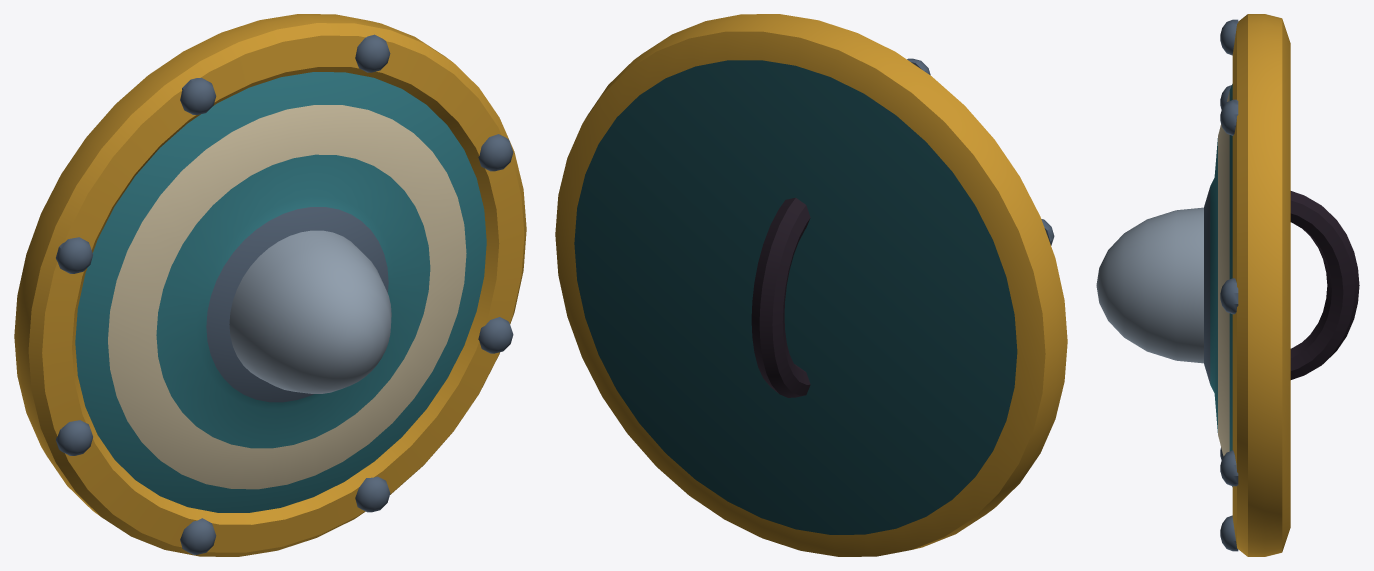
Rendered from RoundShield_18.glb.
The picture shows the model from 3 angles, left to right: view 1: azimuth 30°, elevation 25°; view 2: azimuth 150°, elevation 25°; view 3: azimuth 270°, elevation 25°; orthographic projection. The views are drawn at different scales.
Parts seen in each view (by area): view 1: RoundShield_18; view 2: RoundShield_18; view 3: RoundShield_18.
Part boxes in pixels (bbox=[...]): RoundShield_18: bbox=[14, 14, 526, 556]; RoundShield_18: bbox=[555, 14, 1067, 556]; RoundShield_18: bbox=[1096, 14, 1359, 556].
Size of the model in its own units: 2.53 by 2.53 by 1.23.
